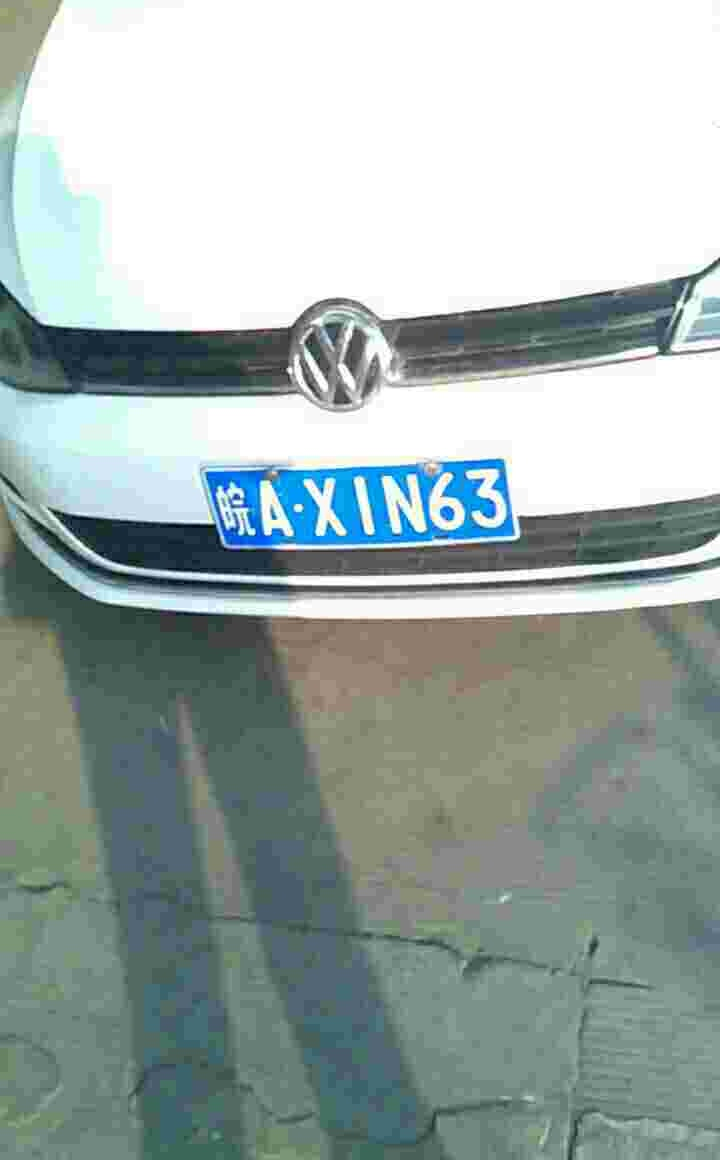license_plate: (201, 466, 518, 549)
